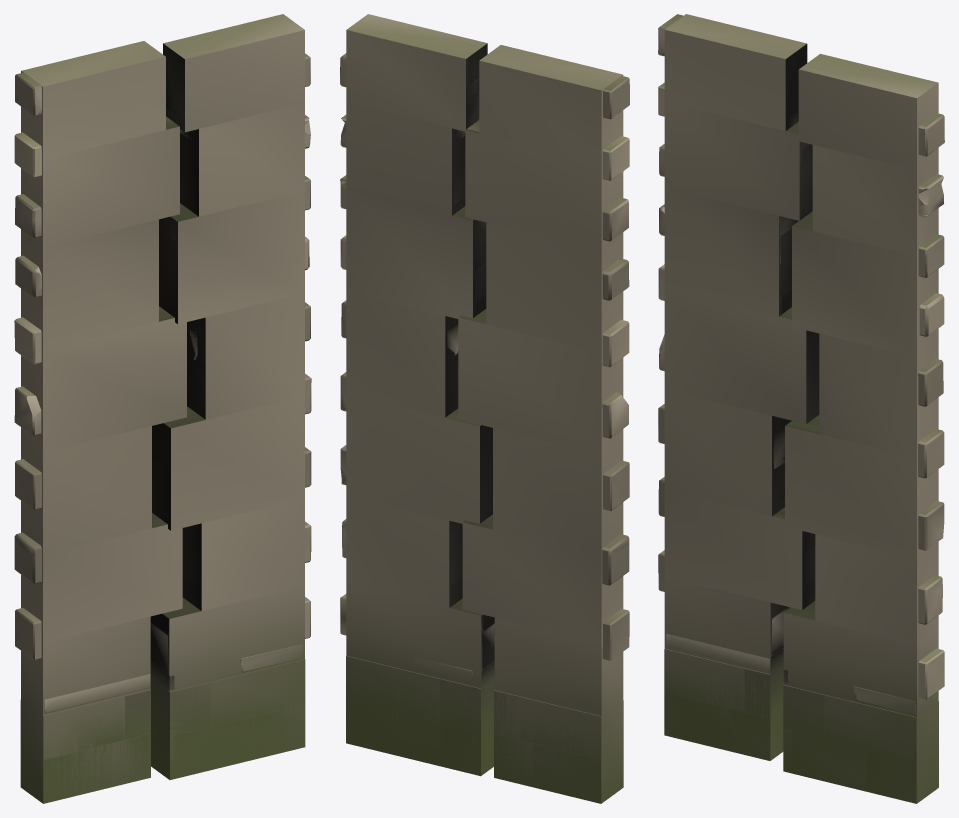
The model's file is agora_stoa_wall_cracked.glb.
The picture shows the model from 3 angles, left to right: view 1: azimuth 30°, elevation 25°; view 2: azimuth 150°, elevation 25°; view 3: azimuth 330°, elevation 25°; orthographic projection.
Parts seen in each view (by area): view 1: agora_stoa_wall_cracked_far, agora_stoa_wall_cracked; view 2: agora_stoa_wall_cracked_far, agora_stoa_wall_cracked; view 3: agora_stoa_wall_cracked_far, agora_stoa_wall_cracked.
Part boxes in pixels (bbox=[...]): agora_stoa_wall_cracked_far: bbox=[20, 14, 305, 803]; agora_stoa_wall_cracked: bbox=[14, 48, 311, 803]; agora_stoa_wall_cracked_far: bbox=[346, 14, 623, 803]; agora_stoa_wall_cracked: bbox=[340, 39, 629, 803]; agora_stoa_wall_cracked_far: bbox=[664, 14, 938, 803]; agora_stoa_wall_cracked: bbox=[658, 14, 944, 803].
Bounding box in the file's own units: 19.75 × 49.3 × 3.15.
